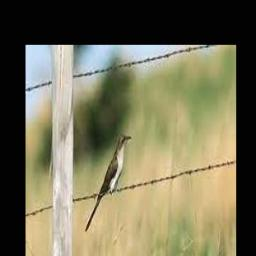Cuckoo: (86, 133, 133, 232)
